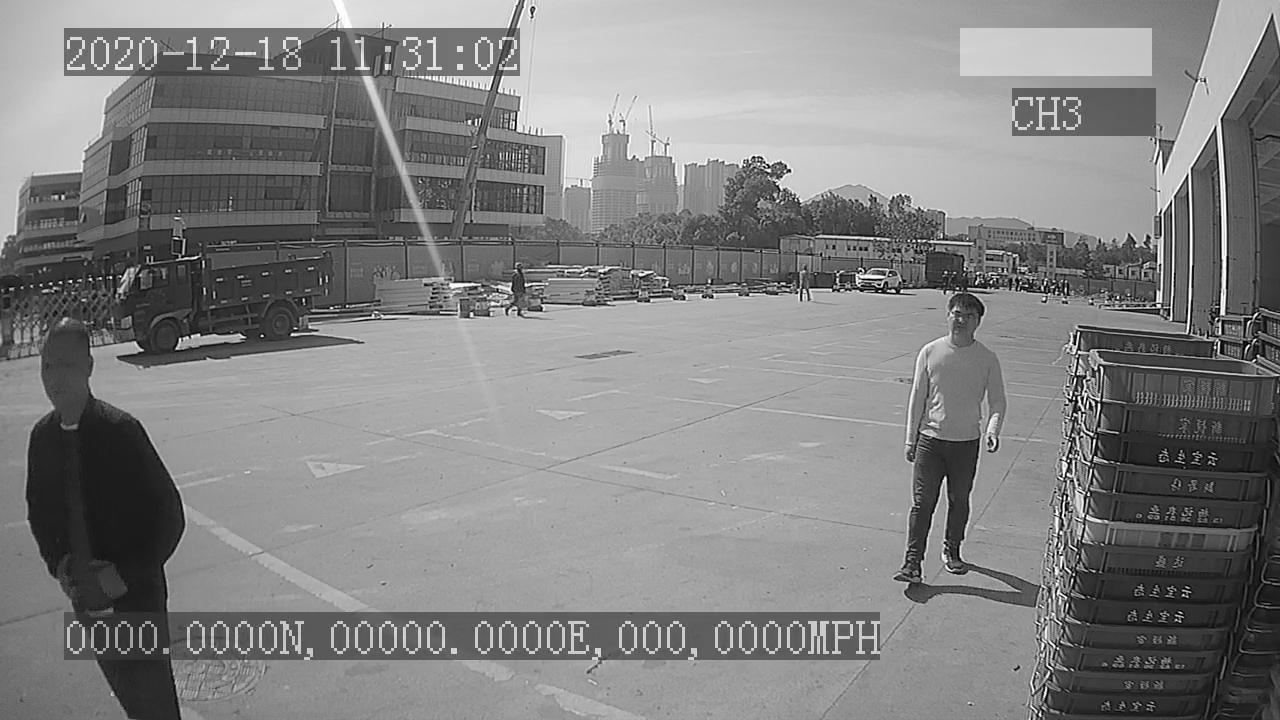person: (891, 280, 1008, 595)
